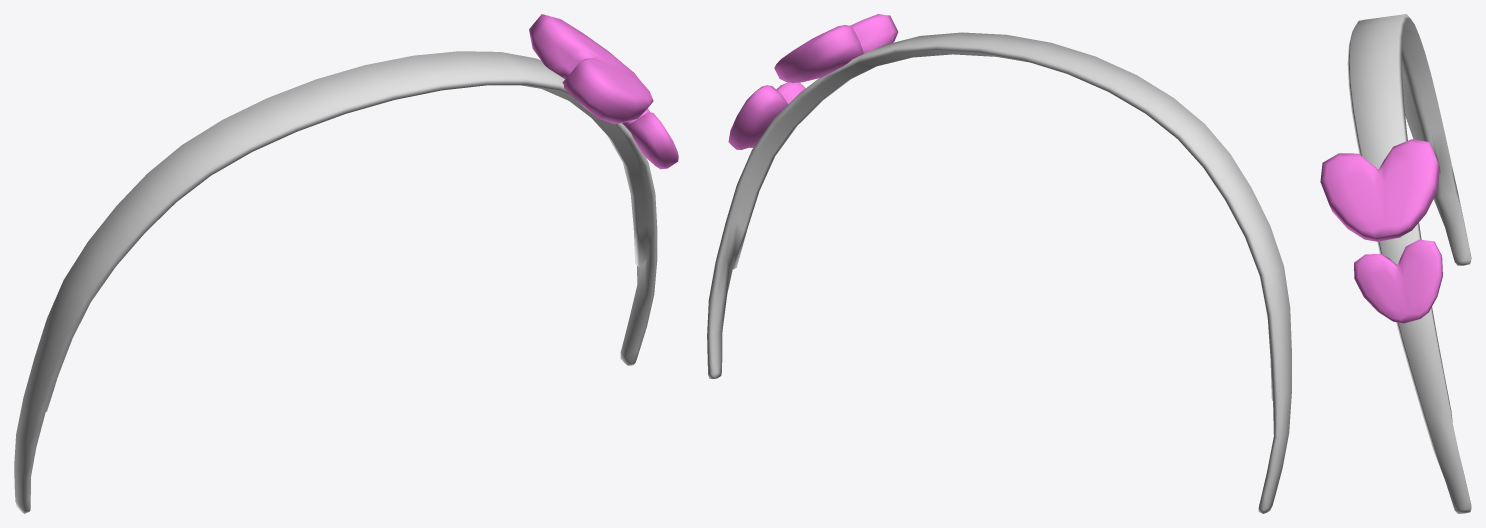
3 renders of one model, left to right at view 1: azimuth 30°, elevation 25°; view 2: azimuth 150°, elevation 25°; view 3: azimuth 270°, elevation 25°, orthographic. The views are drawn at different scales.
Parts seen in each view (by area): view 1: hair_band_heart; view 2: hair_band_heart; view 3: hair_band_heart.
Boxes of the visible parts, x1=… form: hair_band_heart: x1=14, y1=14, x2=678, y2=513; hair_band_heart: x1=707, y1=14, x2=1291, y2=513; hair_band_heart: x1=1320, y1=14, x2=1471, y2=513.
Size of the model in its own units: 2.28 by 1.39 by 0.5673.
